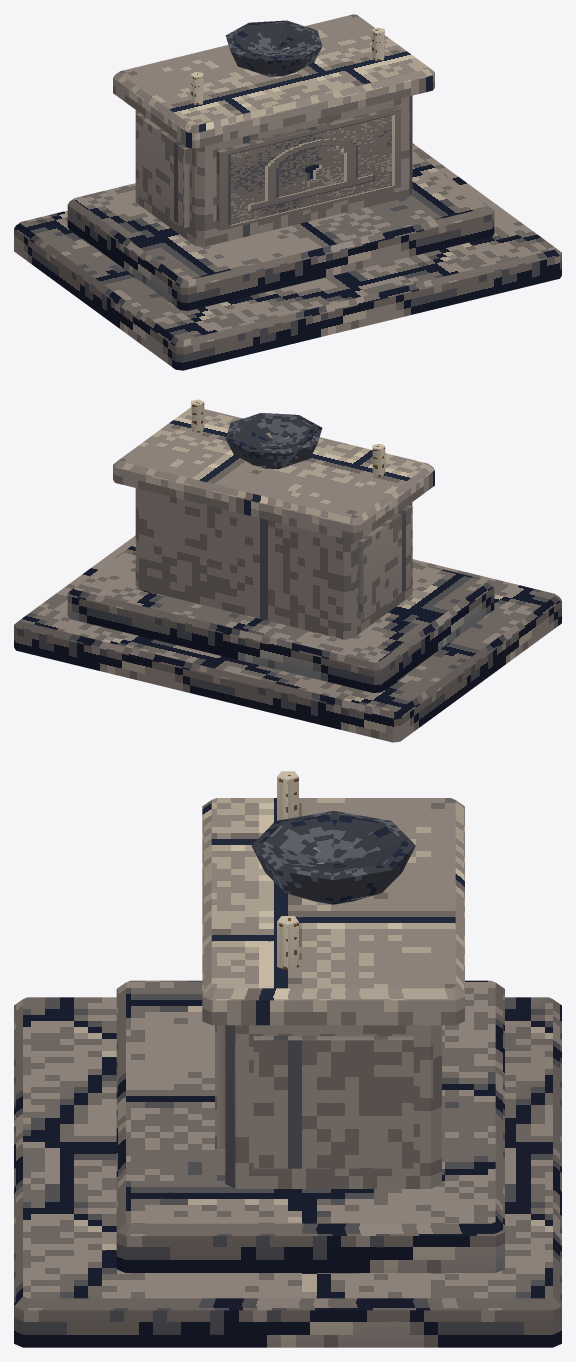
Rendered from tmpl.altar__cold.glb.
3 renders of one model, top to bottom at view 1: azimuth 30°, elevation 25°; view 2: azimuth 150°, elevation 25°; view 3: azimuth 270°, elevation 25°, orthographic. The views are drawn at different scales.
Visible parts, largest first — view 1: kit_altar, kit_reliefs, kit_bowl, kit_candles; view 2: kit_altar, kit_reliefs, kit_bowl, kit_candles; view 3: kit_altar, kit_reliefs, kit_bowl, kit_candles.
Part boxes in pixels (x1,y1,x2,y2): kit_altar: (14, 14, 561, 370); kit_reliefs: (135, 96, 412, 230); kit_bowl: (225, 20, 322, 76); kit_candles: (190, 27, 384, 104); kit_altar: (14, 407, 561, 742); kit_reliefs: (358, 505, 412, 620); kit_bowl: (225, 413, 322, 469); kit_candles: (191, 399, 385, 476); kit_altar: (14, 798, 561, 1347); kit_reliefs: (215, 1025, 413, 1168); kit_bowl: (251, 811, 415, 904); kit_candles: (277, 771, 298, 970).
Bounding box in the file's own units: 3.2 × 1.69 × 2.4.
Materials: 6 (6 with a texture image).
